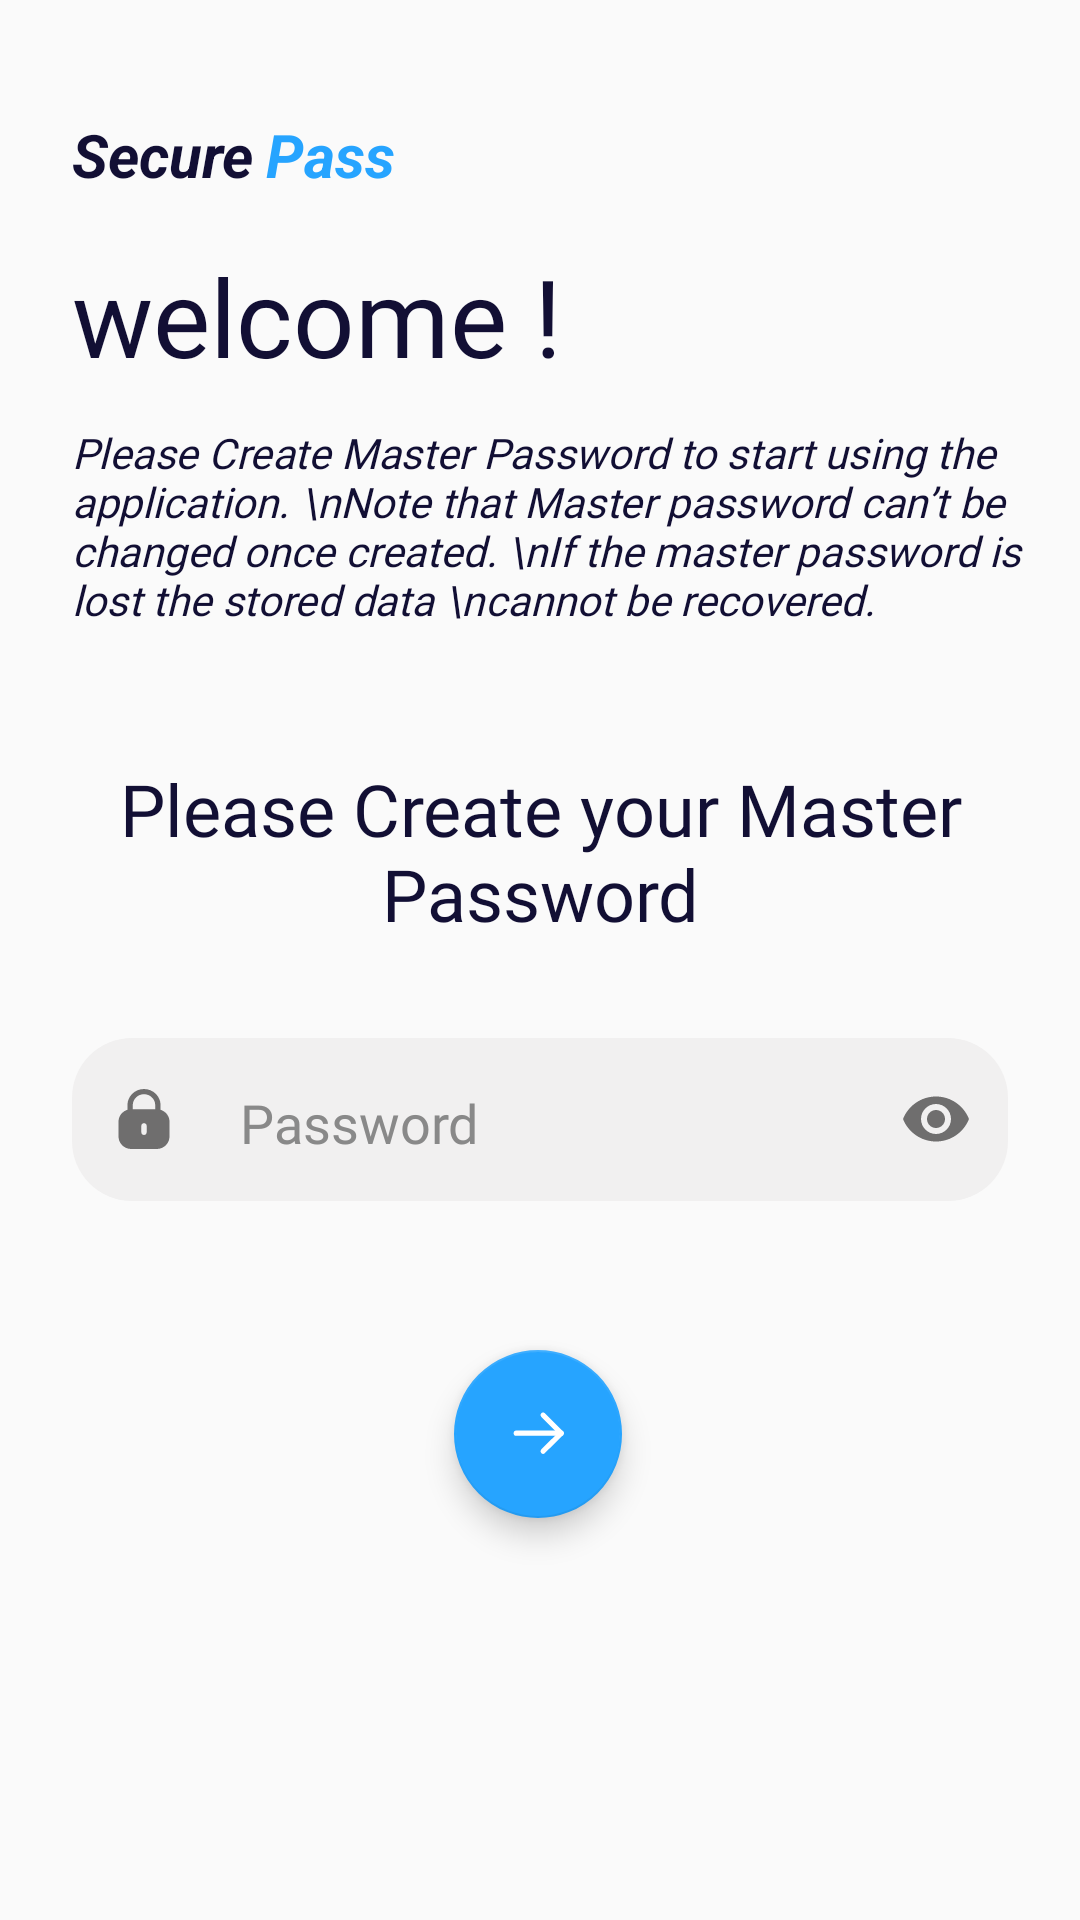

Where icons sit on this 1080px x 1920px app screen, as (x1, y1, x2, y2):
next: (454, 1350, 622, 1518)
